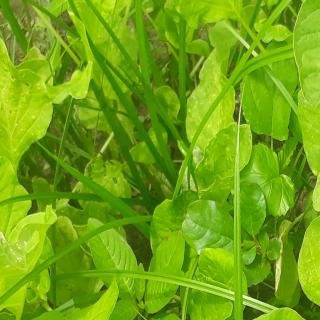karat_putih: (183, 42, 255, 194), (0, 215, 42, 317), (0, 35, 35, 136), (297, 221, 320, 307), (136, 0, 248, 12)
